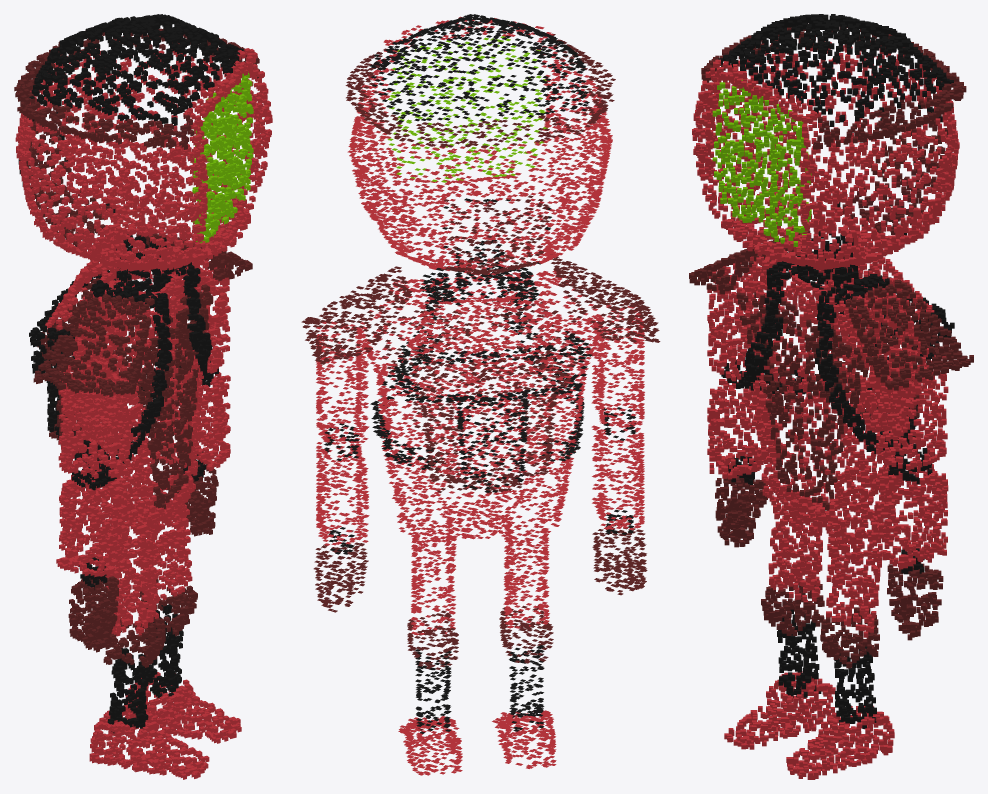
The model's file is input.glb.
3 renders of one model, left to right at view 1: azimuth 30°, elevation 25°; view 2: azimuth 150°, elevation 25°; view 3: azimuth 270°, elevation 25°, orthographic. The views are drawn at different scales.
Visible parts, largest first — view 1: world; view 2: world; view 3: world.
Part boxes in pixels (box(x1,y1,x2,y2)): world: box(14, 14, 272, 779); world: box(301, 14, 660, 775); world: box(689, 14, 973, 779).
Bounding box in the file's own units: 0.5632 × 1.36 × 0.4939.
